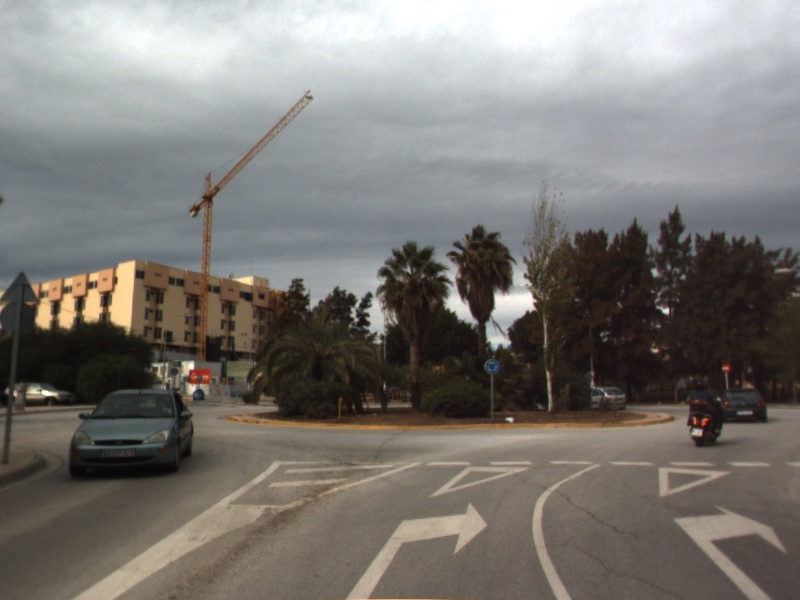RIGHT: (342, 497, 491, 600), (669, 502, 791, 600)
